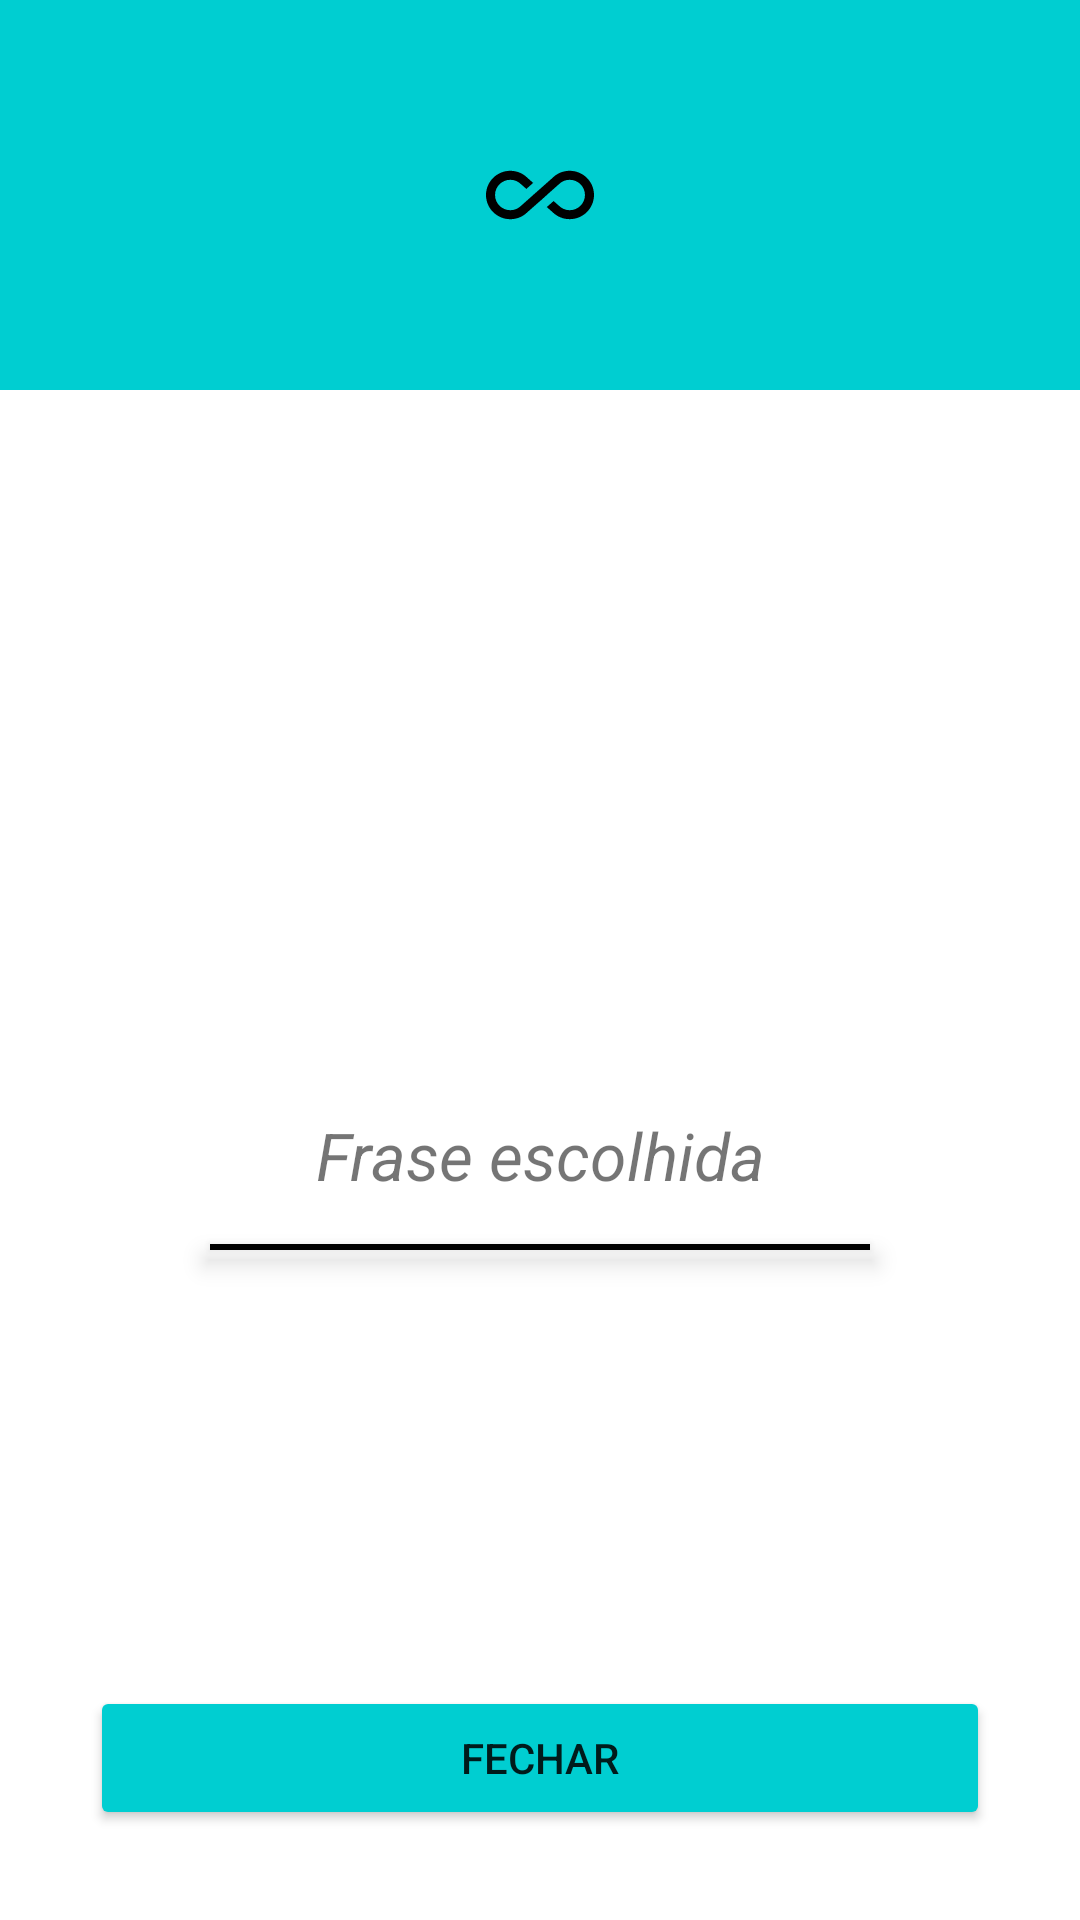

Where to tap for icons on this 1080x1920 app screen, as point (x, y):
all: point (540, 195)
